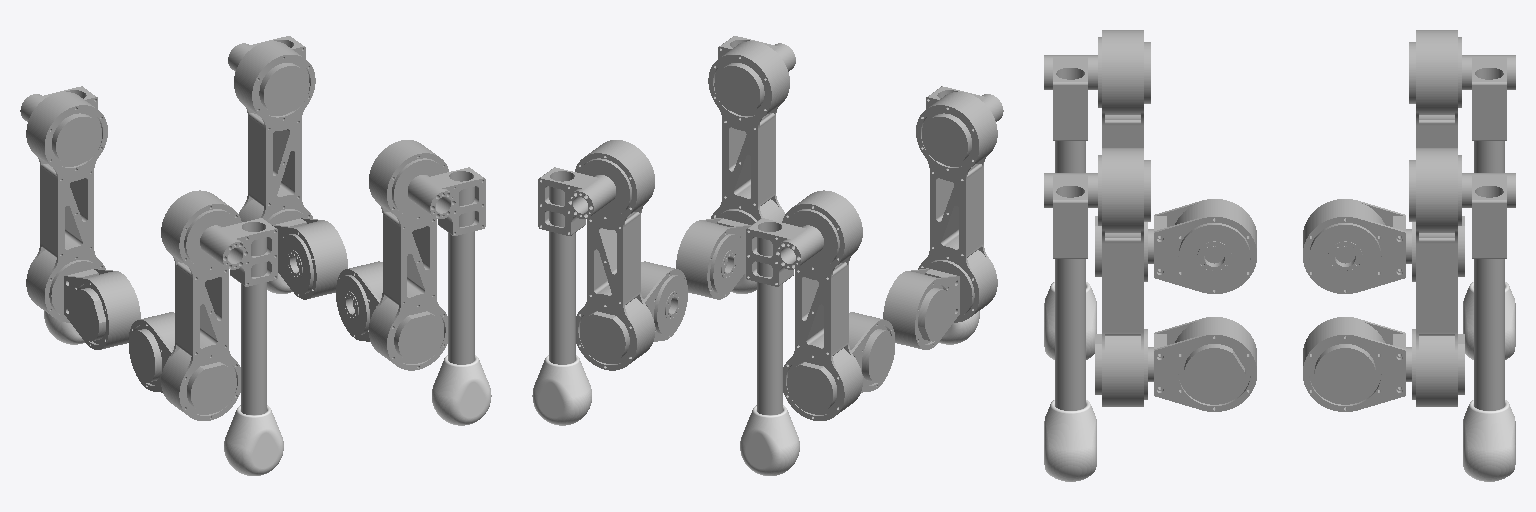
The robot description file, URDF, robot "lynxc":
<!--URDF generated by ONSHAPE BY PTC INC, 1.216-->
<robot name="lynxc">
    <link name="body">
        <inertial>
            <mass value="0.000581568" />
            <origin xyz="-0.0108936 1.10755e-06 0.00338066" rpy="0 -0 0" />
            <inertia ixx="8.82051e-06" ixy="2.09165e-11" ixz="1.21968e-08" iyy="5.33199e-06" iyz="-2.97572e-13" izz="4.94598e-06" />
        </inertial>
        <visual>
            <origin xyz="0 0 0" rpy="0 -0 0" />
            <geometry>
                <mesh filename="package://lynxc/meshes/Body.stl" scale="1 1 1" />
            </geometry>
            <material name="0.749020_0.749020_0.749020_0.000000_0.000000">
                <color rgba="0.74902 0.74902 0.74902 1" />
            </material>
        </visual>
    </link>
    <link name="calf">
        <inertial>
            <mass value="0.000143588" />
            <origin xyz="0.042157 0.0319731 -0.03" rpy="0 -0 0" />
            <inertia ixx="1.19961e-07" ixy="-8.06733e-08" ixz="0" iyy="8.25176e-07" iyz="0" izz="8.90576e-07" />
        </inertial>
        <visual>
            <origin xyz="0.0077101 0.0665934 -0.0352251" rpy="0 -0 0" />
            <geometry>
                <mesh filename="package://lynxc/meshes/Calf.stl" scale="1 1 1" />
            </geometry>
            <material name="0.749020_0.749020_0.749020_0.000000_0.000000">
                <color rgba="0.74902 0.74902 0.74902 1" />
            </material>
        </visual>
    </link>
    <link name="calf_1">
        <inertial>
            <mass value="0.000143588" />
            <origin xyz="0.042157 0.0319731 -0.03" rpy="0 -0 0" />
            <inertia ixx="1.19961e-07" ixy="-8.06733e-08" ixz="0" iyy="8.25176e-07" iyz="0" izz="8.90576e-07" />
        </inertial>
        <visual>
            <origin xyz="0.0077101 0.0665934 -0.0352251" rpy="0 -0 0" />
            <geometry>
                <mesh filename="package://lynxc/meshes/Calf.stl" scale="1 1 1" />
            </geometry>
            <material name="0.749020_0.749020_0.749020_0.000000_0.000000">
                <color rgba="0.74902 0.74902 0.74902 1" />
            </material>
        </visual>
    </link>
    <link name="calf_2">
        <inertial>
            <mass value="0.000143588" />
            <origin xyz="0.042157 0.0319731 0.03" rpy="0 -0 0" />
            <inertia ixx="1.19961e-07" ixy="-8.06733e-08" ixz="0" iyy="8.25176e-07" iyz="0" izz="8.90576e-07" />
        </inertial>
        <visual>
            <origin xyz="0.0077101 0.0665934 0.0247749" rpy="0 -0 0" />
            <geometry>
                <mesh filename="package://lynxc/meshes/Calf.stl" scale="1 1 1" />
            </geometry>
            <material name="0.749020_0.749020_0.749020_0.000000_0.000000">
                <color rgba="0.74902 0.74902 0.74902 1" />
            </material>
        </visual>
    </link>
    <link name="calf_3">
        <inertial>
            <mass value="0.000143588" />
            <origin xyz="0.042157 0.0319731 0.03" rpy="0 -0 0" />
            <inertia ixx="1.19961e-07" ixy="-8.06733e-08" ixz="0" iyy="8.25176e-07" iyz="0" izz="8.90576e-07" />
        </inertial>
        <visual>
            <origin xyz="0.0077101 0.0665934 0.0247749" rpy="0 -0 0" />
            <geometry>
                <mesh filename="package://lynxc/meshes/Calf.stl" scale="1 1 1" />
            </geometry>
            <material name="0.749020_0.749020_0.749020_0.000000_0.000000">
                <color rgba="0.74902 0.74902 0.74902 1" />
            </material>
        </visual>
    </link>
    <link name="foot">
        <inertial>
            <mass value="0.000240828" />
            <origin xyz="-0.00268445 -7.9176e-09 -8.15853e-08" rpy="0 -0 0" />
            <inertia ixx="1.56309e-07" ixy="-7.98167e-14" ixz="-3.15101e-13" iyy="2.07982e-07" iyz="2.7035e-13" izz="1.83187e-07" />
        </inertial>
        <visual>
            <origin xyz="-4.44089e-18 0 0" rpy="0 -0 0" />
            <geometry>
                <mesh filename="package://lynxc/meshes/Foot.stl" scale="1 1 1" />
            </geometry>
            <material name="0.921569_0.921569_0.921569_0.000000_0.000000">
                <color rgba="0.921569 0.921569 0.921569 1" />
            </material>
        </visual>
    </link>
    <link name="foot_1">
        <inertial>
            <mass value="0.000240828" />
            <origin xyz="-0.00268445 -7.9176e-09 -8.15853e-08" rpy="0 -0 0" />
            <inertia ixx="1.56309e-07" ixy="-7.98167e-14" ixz="-3.15101e-13" iyy="2.07982e-07" iyz="2.7035e-13" izz="1.83187e-07" />
        </inertial>
        <visual>
            <origin xyz="-4.44089e-18 0 0" rpy="0 -0 0" />
            <geometry>
                <mesh filename="package://lynxc/meshes/Foot.stl" scale="1 1 1" />
            </geometry>
            <material name="0.921569_0.921569_0.921569_0.000000_0.000000">
                <color rgba="0.921569 0.921569 0.921569 1" />
            </material>
        </visual>
    </link>
    <link name="foot_2">
        <inertial>
            <mass value="0.000240828" />
            <origin xyz="-0.00268445 -7.9176e-09 -8.15853e-08" rpy="0 -0 0" />
            <inertia ixx="1.56309e-07" ixy="-7.98167e-14" ixz="-3.15101e-13" iyy="2.07982e-07" iyz="2.7035e-13" izz="1.83187e-07" />
        </inertial>
        <visual>
            <origin xyz="-4.44089e-18 0 0" rpy="0 -0 0" />
            <geometry>
                <mesh filename="package://lynxc/meshes/Foot.stl" scale="1 1 1" />
            </geometry>
            <material name="0.921569_0.921569_0.921569_0.000000_0.000000">
                <color rgba="0.921569 0.921569 0.921569 1" />
            </material>
        </visual>
    </link>
    <link name="foot_3">
        <inertial>
            <mass value="0.000240828" />
            <origin xyz="-0.00268445 -7.9176e-09 -8.15853e-08" rpy="0 -0 0" />
            <inertia ixx="1.56309e-07" ixy="-7.98167e-14" ixz="-3.15101e-13" iyy="2.07982e-07" iyz="2.7035e-13" izz="1.83187e-07" />
        </inertial>
        <visual>
            <origin xyz="-4.44089e-18 0 0" rpy="0 -0 0" />
            <geometry>
                <mesh filename="package://lynxc/meshes/Foot.stl" scale="1 1 1" />
            </geometry>
            <material name="0.921569_0.921569_0.921569_0.000000_0.000000">
                <color rgba="0.921569 0.921569 0.921569 1" />
            </material>
        </visual>
    </link>
    <link name="hip">
        <inertial>
            <mass value="0.000452448" />
            <origin xyz="2.69598e-05 0.00583924 -0.0302661" rpy="0 -0 0" />
            <inertia ixx="4.98359e-07" ixy="4.10687e-10" ixz="3.22956e-10" iyy="3.67899e-07" iyz="1.10591e-10" izz="6.29034e-07" />
        </inertial>
        <visual>
            <origin xyz="0.134114 -0.0170911 -0.0619191" rpy="0 -0 0" />
            <geometry>
                <mesh filename="package://lynxc/meshes/Hip.stl" scale="1 1 1" />
            </geometry>
            <material name="0.749020_0.749020_0.749020_0.000000_0.000000">
                <color rgba="0.74902 0.74902 0.74902 1" />
            </material>
        </visual>
    </link>
    <link name="hip_1">
        <inertial>
            <mass value="0.000452448" />
            <origin xyz="2.69598e-05 0.00583924 -0.0302661" rpy="0 -0 0" />
            <inertia ixx="4.98359e-07" ixy="4.10687e-10" ixz="3.22956e-10" iyy="3.67899e-07" iyz="1.10591e-10" izz="6.29034e-07" />
        </inertial>
        <visual>
            <origin xyz="0.134114 -0.0170911 -0.0619191" rpy="0 -0 0" />
            <geometry>
                <mesh filename="package://lynxc/meshes/Hip.stl" scale="1 1 1" />
            </geometry>
            <material name="0.749020_0.749020_0.749020_0.000000_0.000000">
                <color rgba="0.74902 0.74902 0.74902 1" />
            </material>
        </visual>
    </link>
    <link name="hip_2">
        <inertial>
            <mass value="0.000452448" />
            <origin xyz="2.69598e-05 0.00583924 -0.0302661" rpy="0 -0 0" />
            <inertia ixx="4.98359e-07" ixy="4.10687e-10" ixz="3.22956e-10" iyy="3.67899e-07" iyz="1.10591e-10" izz="6.29034e-07" />
        </inertial>
        <visual>
            <origin xyz="0.134114 -0.0170911 -0.0619191" rpy="0 -0 0" />
            <geometry>
                <mesh filename="package://lynxc/meshes/Hip.stl" scale="1 1 1" />
            </geometry>
            <material name="0.749020_0.749020_0.749020_0.000000_0.000000">
                <color rgba="0.74902 0.74902 0.74902 1" />
            </material>
        </visual>
    </link>
    <link name="hip_3">
        <inertial>
            <mass value="0.000452448" />
            <origin xyz="2.69598e-05 0.00583924 -0.0302661" rpy="0 -0 0" />
            <inertia ixx="4.98359e-07" ixy="4.10687e-10" ixz="3.22956e-10" iyy="3.67899e-07" iyz="1.10591e-10" izz="6.29034e-07" />
        </inertial>
        <visual>
            <origin xyz="0.134114 -0.0170911 -0.0619191" rpy="0 -0 0" />
            <geometry>
                <mesh filename="package://lynxc/meshes/Hip.stl" scale="1 1 1" />
            </geometry>
            <material name="0.749020_0.749020_0.749020_0.000000_0.000000">
                <color rgba="0.74902 0.74902 0.74902 1" />
            </material>
        </visual>
    </link>
    <link name="root" />
    <link name="thigh">
        <inertial>
            <mass value="0.00102179" />
            <origin xyz="9.71445e-17 0.0301 0.11" rpy="0 -0 0" />
            <inertia ixx="1.09118e-05" ixy="0" ixz="-1.41571e-08" iyy="1.11934e-05" iyz="1.77979e-08" izz="7.94221e-07" />
        </inertial>
        <visual>
            <origin xyz="0.0735915 -0.0991382 0.133088" rpy="0 -0 0" />
            <geometry>
                <mesh filename="package://lynxc/meshes/Thigh.stl" scale="1 1 1" />
            </geometry>
            <material name="0.749020_0.749020_0.749020_0.000000_0.000000">
                <color rgba="0.74902 0.74902 0.74902 1" />
            </material>
        </visual>
    </link>
    <link name="thigh_1">
        <inertial>
            <mass value="0.00102179" />
            <origin xyz="9.71445e-17 0.0301 0.11" rpy="0 -0 0" />
            <inertia ixx="1.09118e-05" ixy="0" ixz="-1.41571e-08" iyy="1.11934e-05" iyz="1.77979e-08" izz="7.94221e-07" />
        </inertial>
        <visual>
            <origin xyz="0.0735915 -0.0991382 0.133088" rpy="0 -0 0" />
            <geometry>
                <mesh filename="package://lynxc/meshes/Thigh.stl" scale="1 1 1" />
            </geometry>
            <material name="0.749020_0.749020_0.749020_0.000000_0.000000">
                <color rgba="0.74902 0.74902 0.74902 1" />
            </material>
        </visual>
    </link>
    <link name="thigh_2">
        <inertial>
            <mass value="0.00102179" />
            <origin xyz="9.71445e-17 0.0301 0.11" rpy="0 -0 0" />
            <inertia ixx="1.09118e-05" ixy="0" ixz="-1.41571e-08" iyy="1.11934e-05" iyz="1.77979e-08" izz="7.94221e-07" />
        </inertial>
        <visual>
            <origin xyz="0.0735915 -0.0991382 0.133088" rpy="0 -0 0" />
            <geometry>
                <mesh filename="package://lynxc/meshes/Thigh.stl" scale="1 1 1" />
            </geometry>
            <material name="0.749020_0.749020_0.749020_0.000000_0.000000">
                <color rgba="0.74902 0.74902 0.74902 1" />
            </material>
        </visual>
    </link>
    <link name="thigh_3">
        <inertial>
            <mass value="0.00102179" />
            <origin xyz="0 -0.0301 -0.11" rpy="0 -0 0" />
            <inertia ixx="1.09118e-05" ixy="0" ixz="-1.41571e-08" iyy="1.11934e-05" iyz="1.77979e-08" izz="7.94221e-07" />
        </inertial>
        <visual>
            <origin xyz="0.0735915 -0.159338 -0.086912" rpy="0 -0 0" />
            <geometry>
                <mesh filename="package://lynxc/meshes/Thigh.stl" scale="1 1 1" />
            </geometry>
            <material name="0.749020_0.749020_0.749020_0.000000_0.000000">
                <color rgba="0.74902 0.74902 0.74902 1" />
            </material>
        </visual>
    </link>
    <joint name="fixed_node_to_root_joint" type="fixed">
        <origin xyz="0 0 0" rpy="0 1.5708 -3.14159" />
        <axis xyz="0 0 1" />
        <parent link="root" />
        <child link="body" />
    </joint>
    <joint name="fl" type="fixed">
        <origin xyz="0.303431 0.0455 -0.03" rpy="-1.5708 1.29422e-31 -3.14312e-31" />
        <axis xyz="-1 -0 -0" />
        <parent link="calf_1" />
        <child link="foot_2" />
    </joint>
    <joint name="fl0" type="continuous">
        <origin xyz="-0.0135046 -0.075 -0.126157" rpy="-5.95205e-32 5.55112e-17 3.14159" />
        <axis xyz="-0 -0 1" />
        <parent link="body" />
        <child link="hip" />
    </joint>
    <joint name="fl1" type="continuous">
        <origin xyz="-2.60209e-17 0.075 -0.0301" rpy="0 1.5708 1.19964e-32" />
        <axis xyz="0 -1 0" />
        <parent link="hip" />
        <child link="thigh_2" />
    </joint>
    <joint name="fl2" type="continuous">
        <origin xyz="-5.55112e-17 0.0602 0.22" rpy="0 1.5708 -1.5708" />
        <axis xyz="-0 -0 1" />
        <parent link="thigh_2" />
        <child link="calf_1" />
    </joint>
    <joint name="fr" type="fixed">
        <origin xyz="0.303431 0.0455 0.03" rpy="-1.5708 -2.65008e-31 -2.15704e-31" />
        <axis xyz="-1 -0 -0" />
        <parent link="calf_2" />
        <child link="foot_1" />
    </joint>
    <joint name="fr0" type="continuous">
        <origin xyz="-0.0135046 0.075 -0.126157" rpy="2.25427e-32 -5.55112e-17 1.664e-31" />
        <axis xyz="-0 -0 1" />
        <parent link="body" />
        <child link="hip_3" />
    </joint>
    <joint name="fr1" type="continuous">
        <origin xyz="-4.33681e-17 0.075 -0.0301" rpy="0 -1.5708 -3.73074e-32" />
        <axis xyz="0 -1 0" />
        <parent link="hip_3" />
        <child link="thigh" />
    </joint>
    <joint name="fr2" type="continuous">
        <origin xyz="1.11022e-16 0.0602 0.22" rpy="0 1.5708 -4.71239" />
        <axis xyz="-0 -0 -1" />
        <parent link="thigh" />
        <child link="calf_2" />
    </joint>
    <joint name="rl" type="fixed">
        <origin xyz="0.303431 0.0455 -0.03" rpy="-1.5708 -1.2326e-31 4.19082e-31" />
        <axis xyz="-1 -0 -0" />
        <parent link="calf" />
        <child link="foot_3" />
    </joint>
    <joint name="rl0" type="continuous">
        <origin xyz="-0.0135046 -0.075 0.133843" rpy="-3.14159 -2.46519e-32 -4.31408e-32" />
        <axis xyz="-0 -0 1" />
        <parent link="body" />
        <child link="hip_2" />
    </joint>
    <joint name="rl1" type="continuous">
        <origin xyz="-1.38778e-17 0.075 -0.0301" rpy="0 -1.5708 3.14159" />
        <axis xyz="0 1 0" />
        <parent link="hip_2" />
        <child link="thigh_3" />
    </joint>
    <joint name="rl2" type="continuous">
        <origin xyz="-1.66533e-16 -0.0602 -0.22" rpy="0 -1.5708 4.71239" />
        <axis xyz="-0 -0 1" />
        <parent link="thigh_3" />
        <child link="calf" />
    </joint>
    <joint name="rr" type="fixed">
        <origin xyz="0.303431 0.0455 0.03" rpy="-1.5708 -6.16298e-33 -2.03378e-31" />
        <axis xyz="-1 0 0" />
        <parent link="calf_3" />
        <child link="foot" />
    </joint>
    <joint name="rr0" type="continuous">
        <origin xyz="-0.0135046 0.075 0.133843" rpy="-3.14159 -2.46519e-32 3.14159" />
        <axis xyz="0 0 1" />
        <parent link="body" />
        <child link="hip_1" />
    </joint>
    <joint name="rr1" type="continuous">
        <origin xyz="5.55112e-17 0.075 -0.0301" rpy="0 1.5708 1.28968e-30" />
        <axis xyz="-0 -1 -0" />
        <parent link="hip_1" />
        <child link="thigh_1" />
    </joint>
    <joint name="rr2" type="continuous">
        <origin xyz="3.05311e-16 0.0602 0.22" rpy="0 1.5708 -4.71239" />
        <axis xyz="0 0 -1" />
        <parent link="thigh_1" />
        <child link="calf_3" />
    </joint>
</robot>

--- What the picture shows (computed from the rendered views, not written in the file) ---
The picture shows the robot from 3 angles, left to right: view 1: azimuth 30°, elevation 25°; view 2: azimuth 150°, elevation 25°; view 3: azimuth 270°, elevation 25°; orthographic projection.
Robot: lynxc — 18 links, 17 joints (12 continuous, 5 fixed); root link root; default pose: every joint at zero.
Visible links, largest first — view 1: thigh_1, thigh, thigh_3, thigh_2, calf_2, calf_3, hip_2, hip, foot, foot_1, hip_3, hip_1 (+3 smaller); view 2: thigh_3, thigh_2, thigh_1, thigh, calf_1, calf, hip_1, hip_3, foot_3, foot_2, hip, hip_2 (+3 smaller); view 3: thigh, thigh_2, hip, hip_3, hip_1, hip_2, calf_1, calf_2, thigh_1, thigh_3, calf, calf_3 (+4 smaller).
Link boxes in pixels (<box>): thigh_1: <box>161,190,241,420</box>; thigh: <box>369,140,448,370</box>; thigh_3: <box>26,92,107,322</box>; thigh_2: <box>234,41,315,224</box>; calf_2: <box>408,167,485,364</box>; calf_3: <box>200,218,277,414</box>; hip_2: <box>64,268,140,349</box>; hip: <box>272,218,347,299</box>; foot: <box>224,405,283,475</box>; foot_1: <box>432,355,491,425</box>; hip_3: <box>336,261,382,341</box>; hip_1: <box>128,312,174,392</box>; thigh_3: <box>782,190,862,420</box>; thigh_2: <box>575,140,654,370</box>; thigh_1: <box>916,92,997,322</box>; thigh: <box>708,41,789,224</box>; calf_1: <box>538,167,615,364</box>; calf: <box>746,218,823,414</box>; hip_1: <box>883,268,959,349</box>; hip_3: <box>676,218,751,299</box>; foot_3: <box>740,405,799,475</box>; foot_2: <box>532,355,591,425</box>; hip: <box>641,261,687,341</box>; hip_2: <box>849,312,895,392</box>; thigh: <box>1095,148,1150,406</box>; thigh_2: <box>1409,148,1464,406</box>; hip: <box>1303,317,1410,411</box>; hip_3: <box>1149,317,1256,411</box>; hip_1: <box>1149,199,1256,293</box>; hip_2: <box>1303,199,1410,293</box>; calf_1: <box>1463,173,1515,410</box>; calf_2: <box>1044,173,1096,410</box>; thigh_1: <box>1095,30,1150,281</box>; thigh_3: <box>1409,30,1464,281</box>; calf: <box>1463,55,1515,172</box>; calf_3: <box>1044,55,1096,172</box>.
Bounding box of the posed robot: 0.4547 × 0.5404 × 0.3924 m (x, y, z).
Meshes: 5 distinct files referenced, 16 mesh visuals loaded (4 binary STL); not drawn: 1 (reference not matched to a file when rendering).
